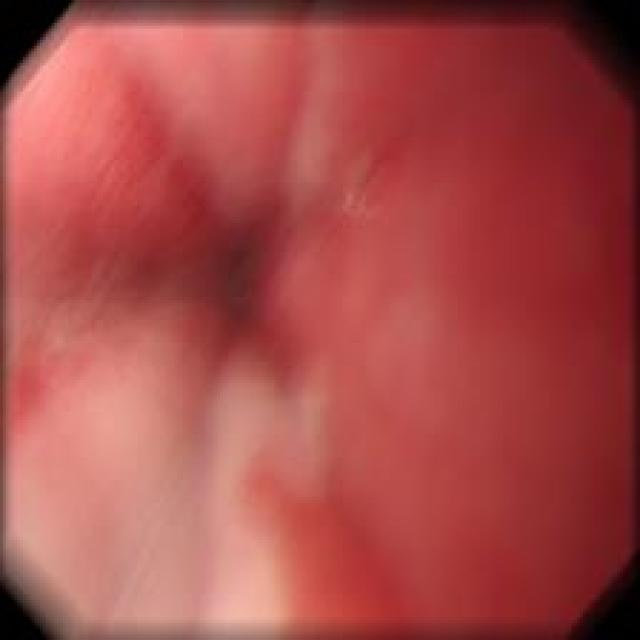blur: (1, 1, 636, 636), (6, 275, 348, 634), (81, 28, 405, 244)
